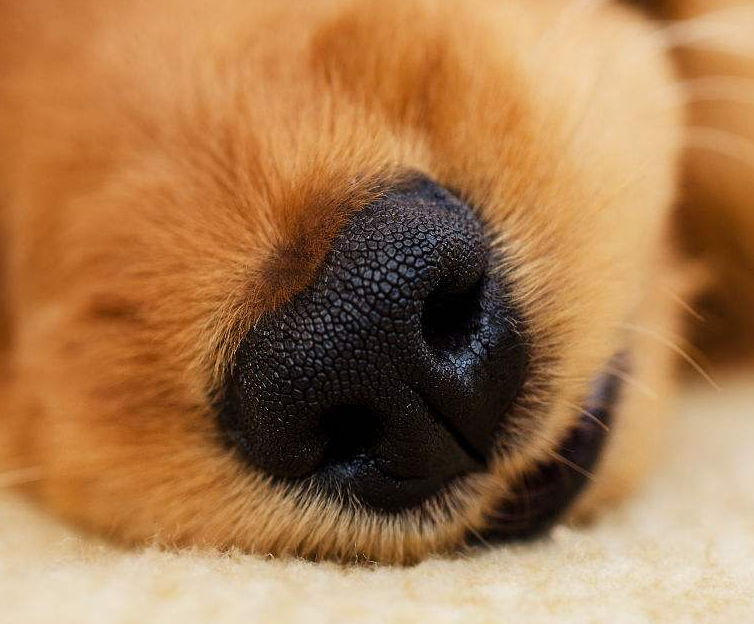nose: (217, 173, 553, 512)
